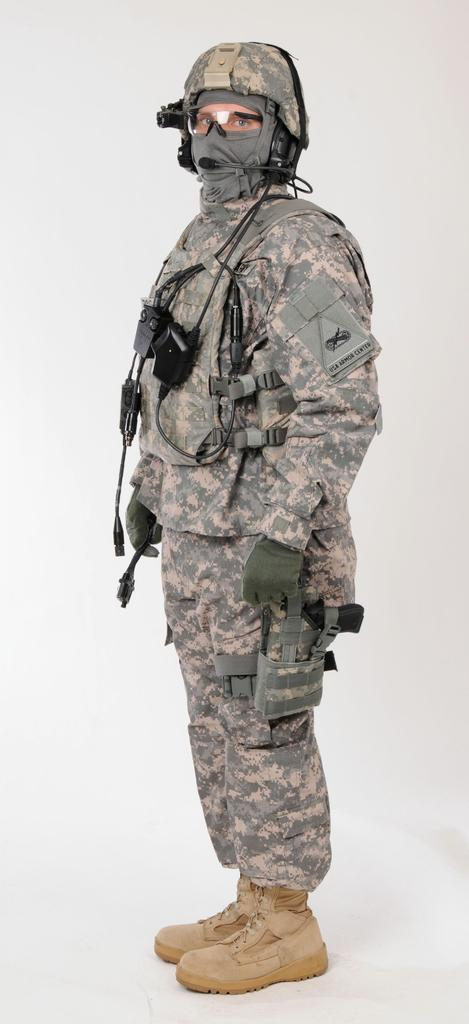non-violence: (126, 38, 382, 990)
weapon: (301, 608, 362, 630)
